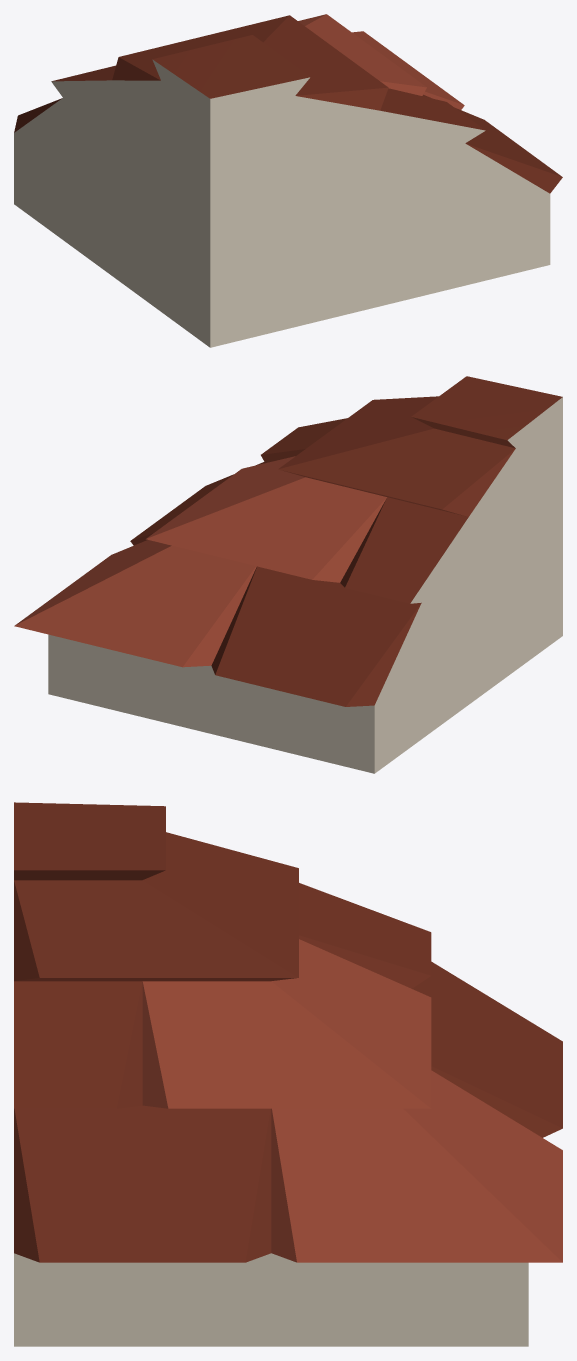
Rendered from Roof_Convex_Corner_Outer.obj.
3 renders of one model, top to bottom at view 1: azimuth 30°, elevation 25°; view 2: azimuth 150°, elevation 25°; view 3: azimuth 270°, elevation 25°, orthographic. The views are drawn at different scales.
Visible parts, largest first — view 1: object1; view 2: object1; view 3: object1.
Boxes of the visible parts, left/top/right/bottom form: object1: left=14, top=14, right=562, bottom=347; object1: left=14, top=376, right=562, bottom=773; object1: left=14, top=802, right=562, bottom=1346.
Size of the model in its own units: 1.07 by 0.7 by 1.07.
